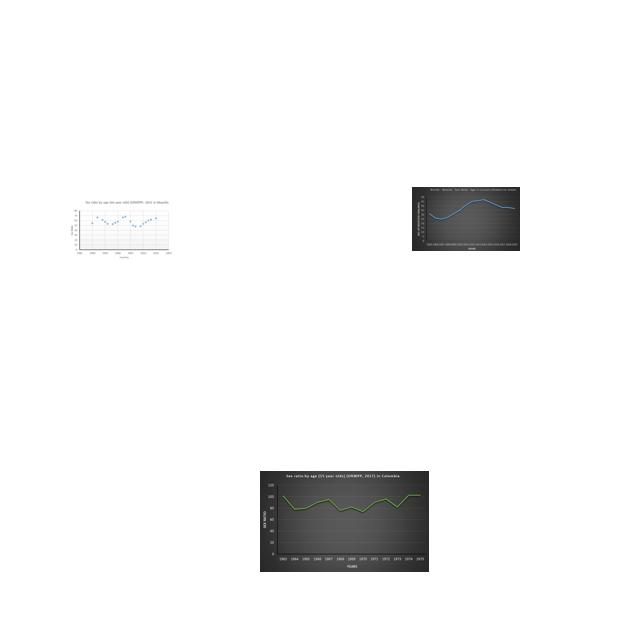Graph: (260, 471, 429, 572), (412, 187, 520, 251), (69, 198, 173, 260)
